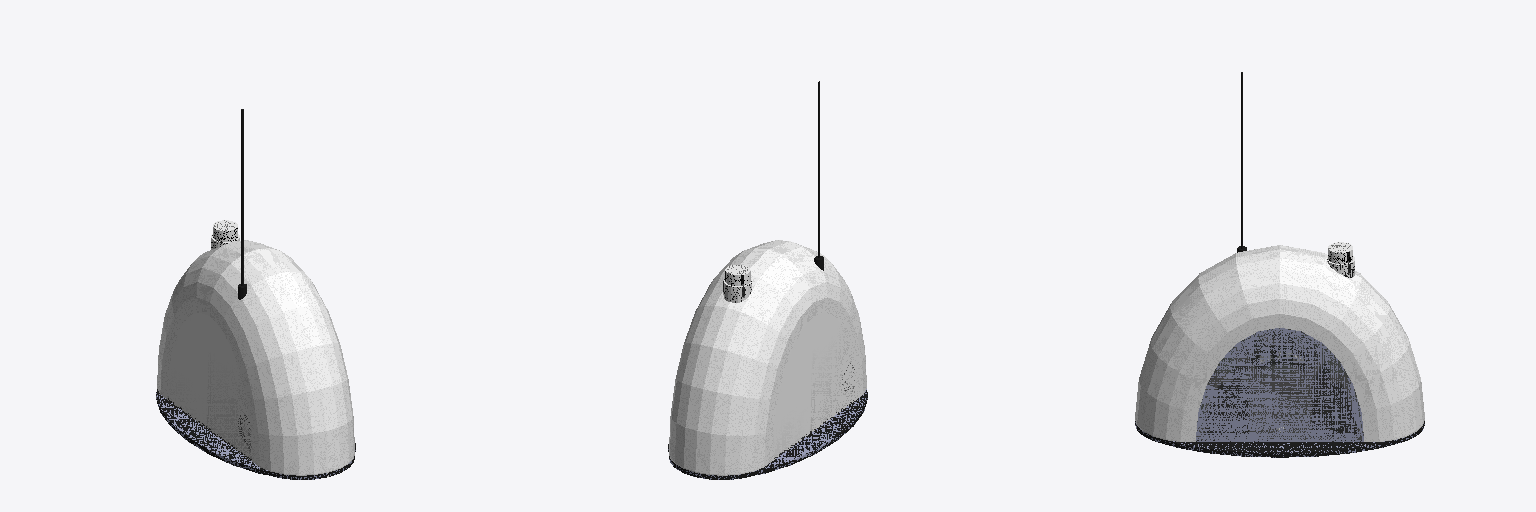
3 views of the same model, side by side, from view 1: azimuth 30°, elevation 25°; view 2: azimuth 150°, elevation 25°; view 3: azimuth 270°, elevation 25° (orthographic).
Visible parts, largest first — view 1: SketchUp, SketchUp_ID89, SketchUp_ID79, SketchUp_ID67, group_0; view 2: SketchUp, SketchUp_ID89, SketchUp_ID79, SketchUp_ID67, Tuner; view 3: SketchUp, SketchUp_ID89, SketchUp_ID79, SketchUp_ID67.
Boxes of the visible parts, x1=… form: SketchUp: x1=156, y1=240, x2=355, y2=479; SketchUp_ID89: x1=157, y1=240, x2=354, y2=475; SketchUp_ID79: x1=168, y1=314, x2=251, y2=460; SketchUp_ID67: x1=156, y1=389, x2=355, y2=479; group_0: x1=238, y1=109, x2=246, y2=299; SketchUp: x1=668, y1=240, x2=867, y2=479; SketchUp_ID89: x1=669, y1=240, x2=866, y2=475; SketchUp_ID79: x1=772, y1=313, x2=855, y2=458; SketchUp_ID67: x1=668, y1=390, x2=867, y2=479; Tuner: x1=723, y1=271, x2=751, y2=302; SketchUp: x1=1135, y1=245, x2=1424, y2=457; SketchUp_ID89: x1=1135, y1=245, x2=1424, y2=441; SketchUp_ID79: x1=1196, y1=328, x2=1363, y2=441; SketchUp_ID67: x1=1135, y1=421, x2=1424, y2=457.
Size of the model in its own units: 0.2084 by 0.4853 by 0.3796.
Materials: 10 (1 with a texture image).